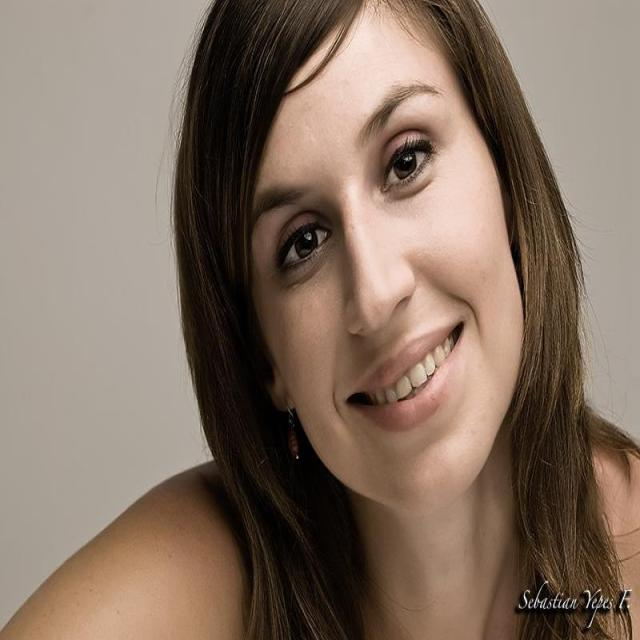Eyebags: (380, 151, 440, 218), (280, 236, 335, 296), (390, 166, 432, 202), (288, 250, 325, 286)
